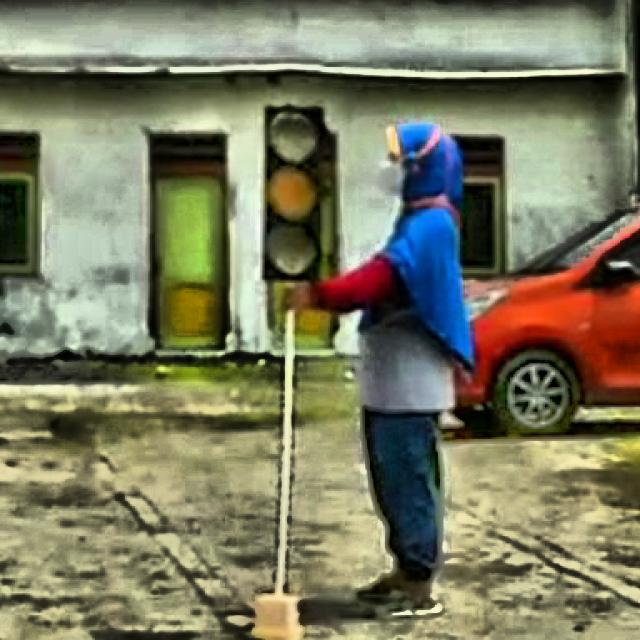yellow: (262, 104, 325, 281)
